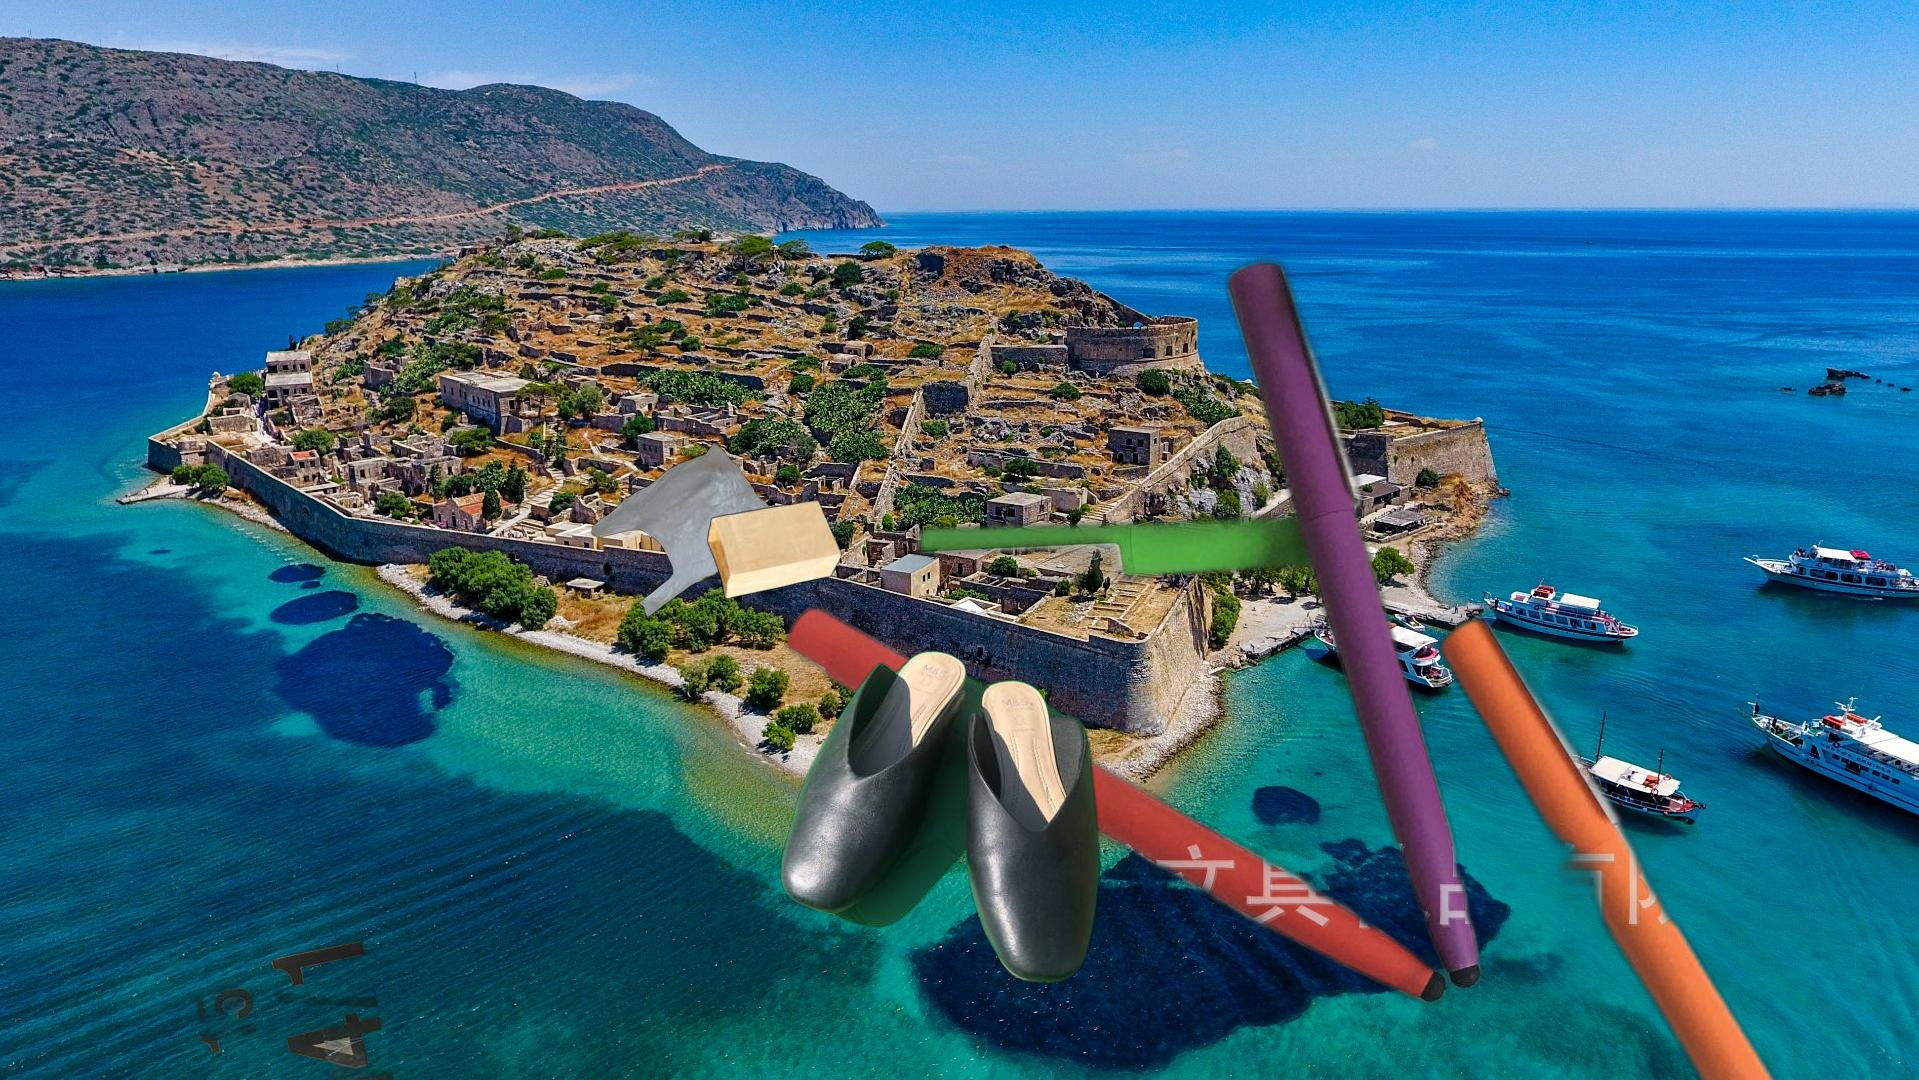paper-bag: (706, 498, 844, 603)
penholder: (772, 204, 1893, 1080)
plastic-bag: (588, 440, 771, 620)
shoes: (778, 646, 1168, 1036)
trashbox-cardboard: (107, 939, 486, 1080)
